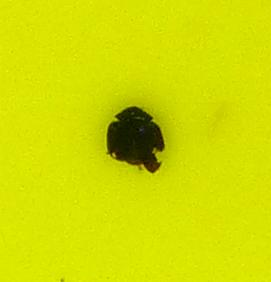Coleoptera: (100, 100, 171, 182)
